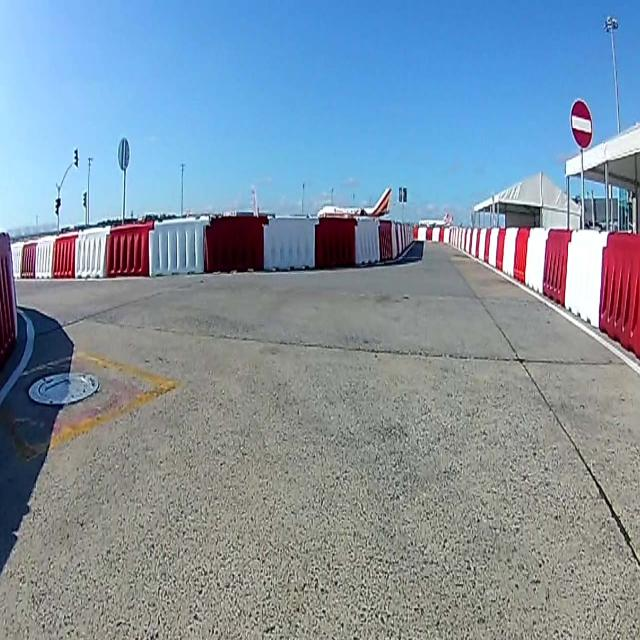girisyok: (568, 98, 593, 149)
